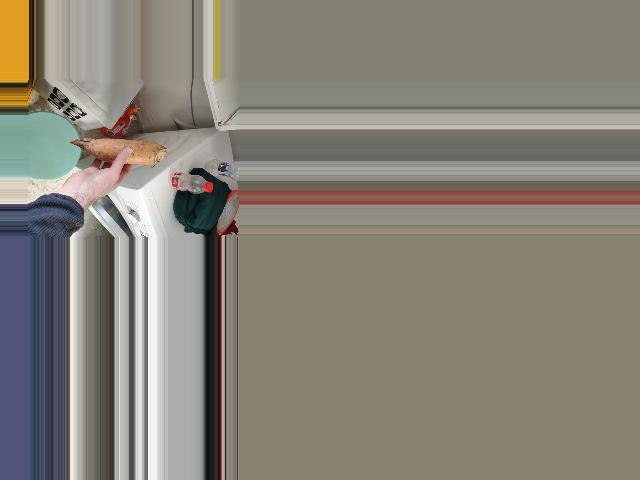sweet_potato: (72, 137, 168, 168)
